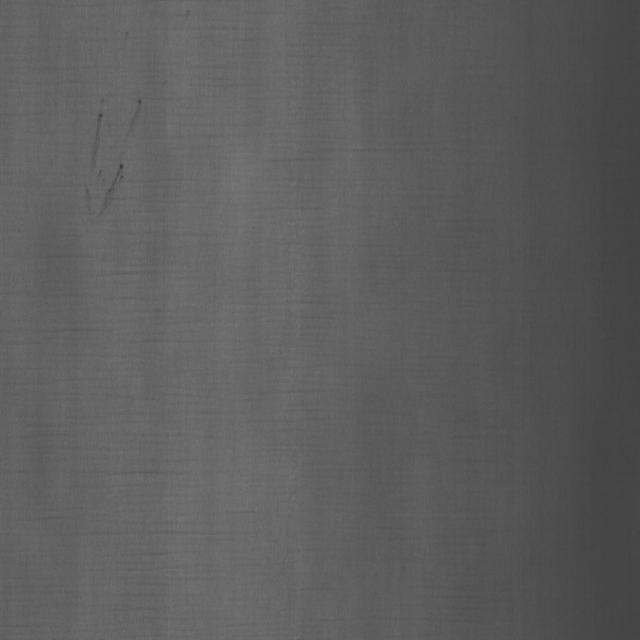water_spot: (70, 86, 155, 231)
